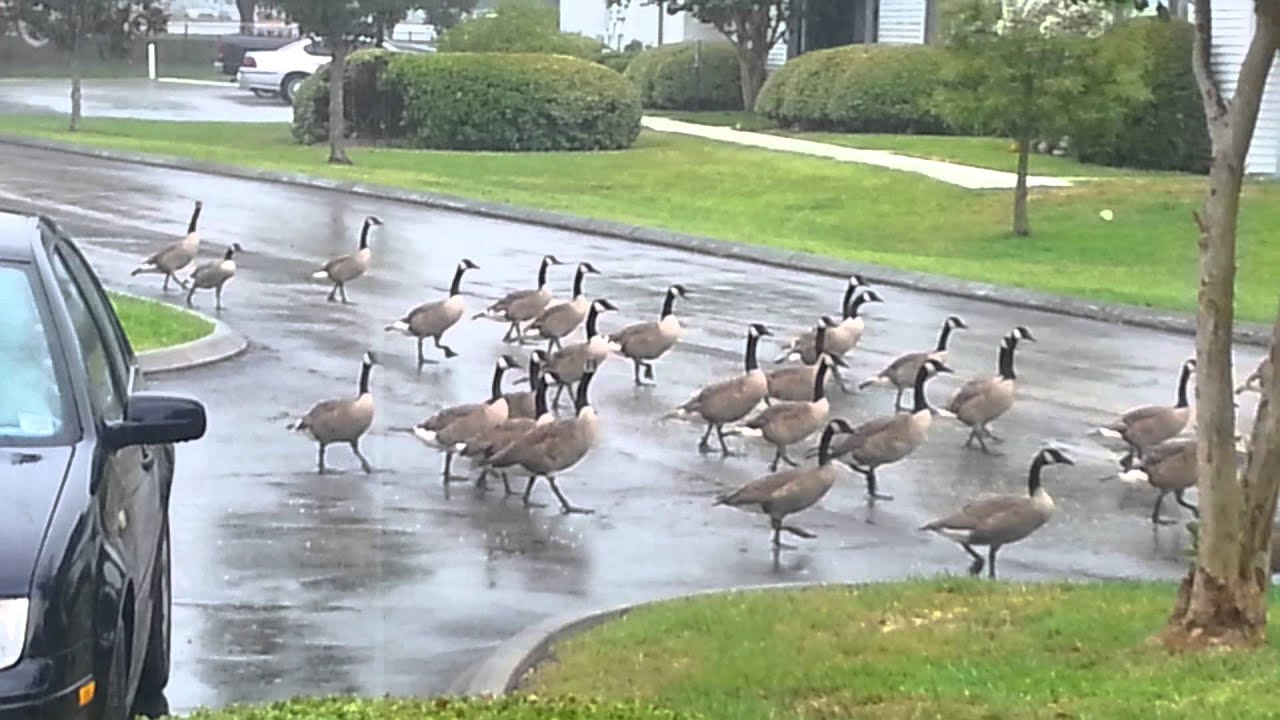goose: (905, 442, 1076, 587), (706, 416, 857, 566), (826, 356, 958, 509), (501, 346, 614, 516), (1085, 350, 1209, 501), (652, 321, 775, 459), (407, 353, 518, 489), (460, 369, 565, 501), (281, 346, 379, 482), (742, 348, 851, 470), (948, 322, 1038, 460), (378, 256, 482, 370), (857, 314, 970, 410), (600, 279, 692, 391), (749, 312, 837, 418), (1134, 433, 1214, 541), (543, 296, 621, 405), (302, 212, 388, 309), (477, 252, 563, 349), (127, 195, 206, 299), (793, 286, 890, 370), (524, 259, 604, 359), (178, 241, 250, 314), (511, 345, 556, 413), (833, 271, 871, 313)
